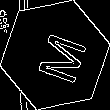M_W: (25, 25, 85, 85)
